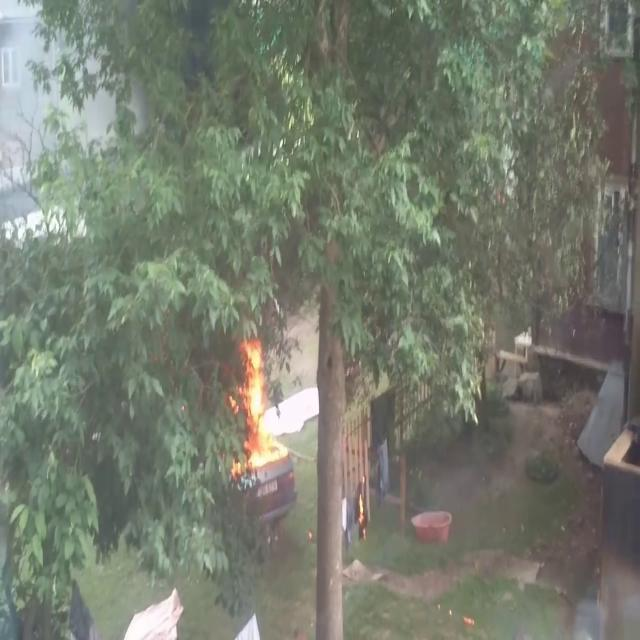Fire: (231, 334, 288, 476)
